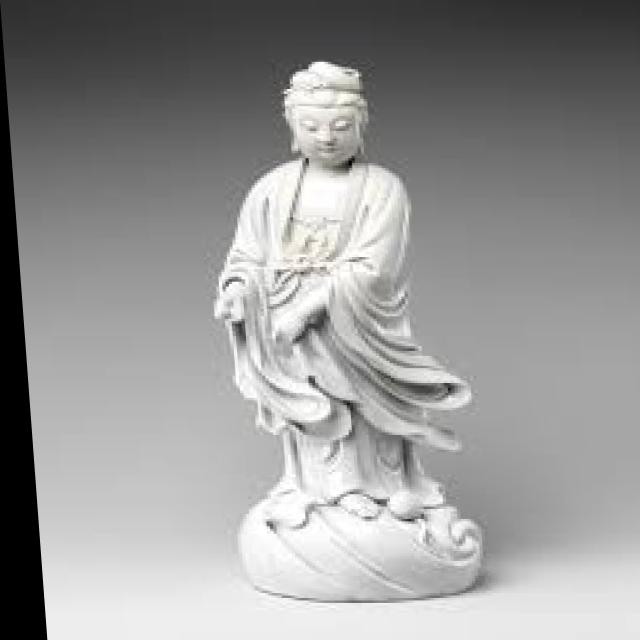Guan Yin: (189, 59, 473, 462)
